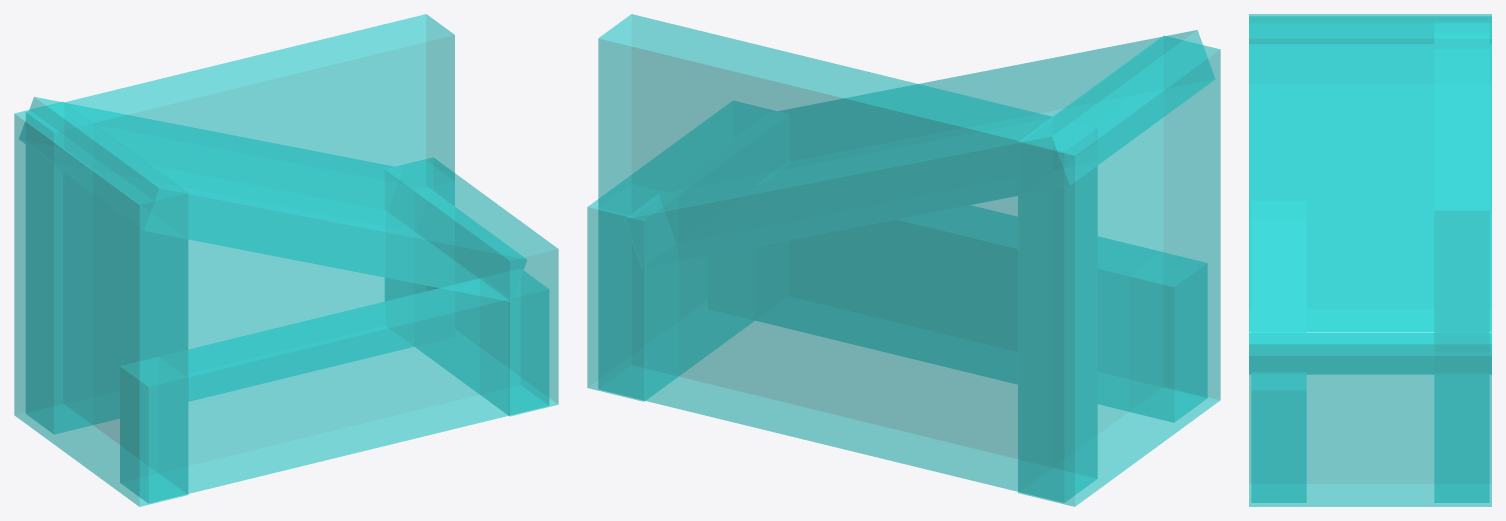
File: SM_Prop_Scaffolding_01_Damaged_01_Collision_01.fbx
The picture shows the model from 3 angles, left to right: view 1: azimuth 30°, elevation 25°; view 2: azimuth 150°, elevation 25°; view 3: azimuth 270°, elevation 25°; orthographic projection. The views are drawn at different scales.
Visible parts, largest first — view 1: SM_Prop_Scaffolding_01_Damaged_01_Collision_01; view 2: SM_Prop_Scaffolding_01_Damaged_01_Collision_01; view 3: SM_Prop_Scaffolding_01_Damaged_01_Collision_01.
Boxes of the visible parts, x1,y1,x2,y2 form: SM_Prop_Scaffolding_01_Damaged_01_Collision_01: (14, 14, 558, 506); SM_Prop_Scaffolding_01_Damaged_01_Collision_01: (587, 14, 1220, 506); SM_Prop_Scaffolding_01_Damaged_01_Collision_01: (1249, 14, 1491, 506).
Size of the model in its own units: 534 by 382 by 277.
